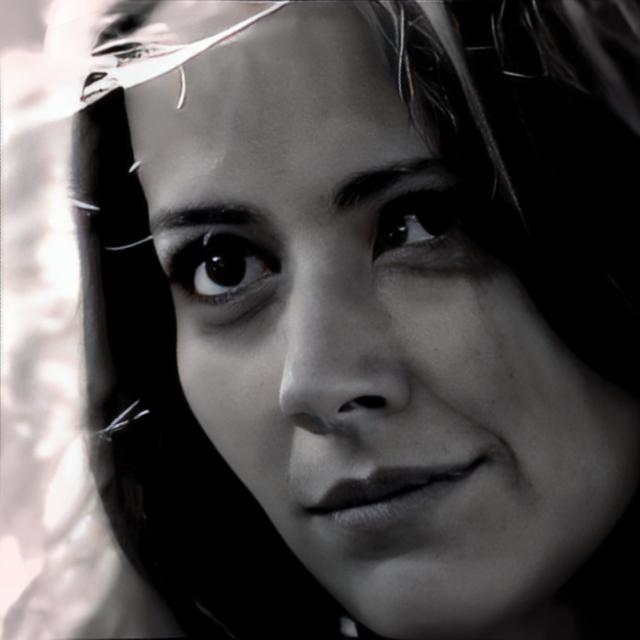content: (120, 0, 640, 637)
